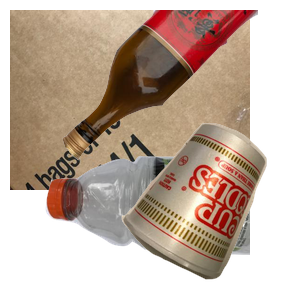cardboard: (10, 10, 250, 190)
glass: (60, 10, 300, 163)
plastic: (43, 152, 283, 300)
trash: (119, 121, 300, 300)
